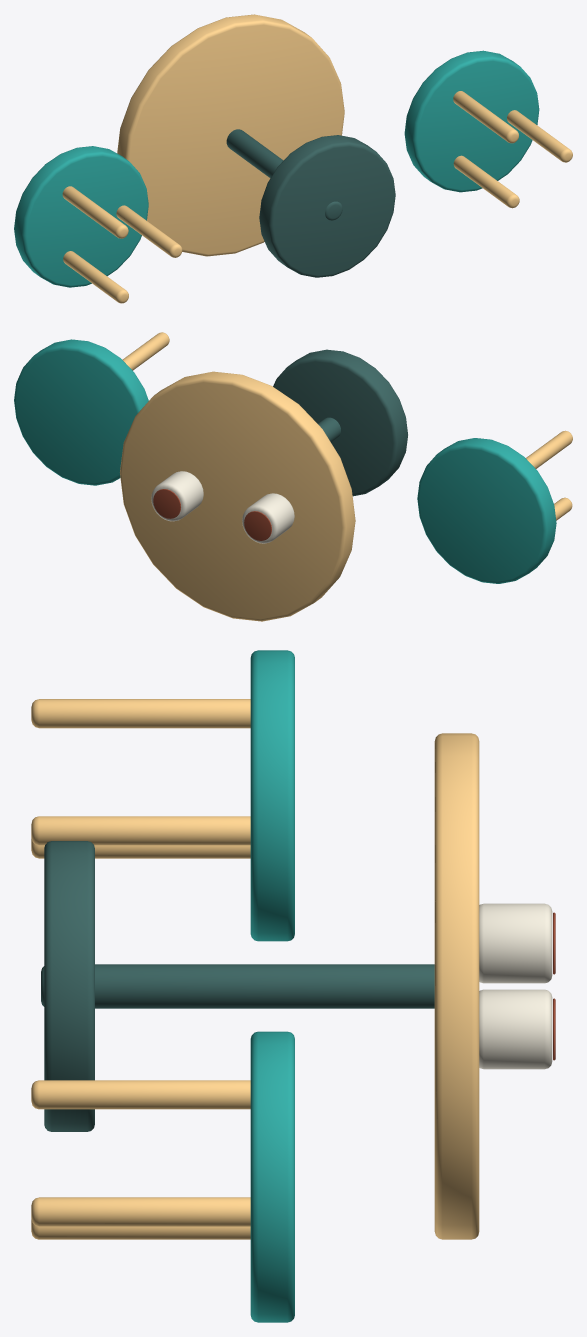
File: BoulevardLandmark3.fbx
3 views of the same model, one above another, from view 1: azimuth 30°, elevation 25°; view 2: azimuth 150°, elevation 25°; view 3: azimuth 270°, elevation 25° (orthographic). The views are drawn at different scales.
Visible parts, largest first — view 1: BoulevardLandmark3; view 2: BoulevardLandmark3; view 3: BoulevardLandmark3.
Part boxes in pixels (box(x1,y1,x2,y2)): BoulevardLandmark3: box(14, 14, 572, 303); BoulevardLandmark3: box(14, 332, 572, 621); BoulevardLandmark3: box(31, 650, 555, 1322).
Size of the model in its own units: 1.88 by 0.8 by 0.825.
